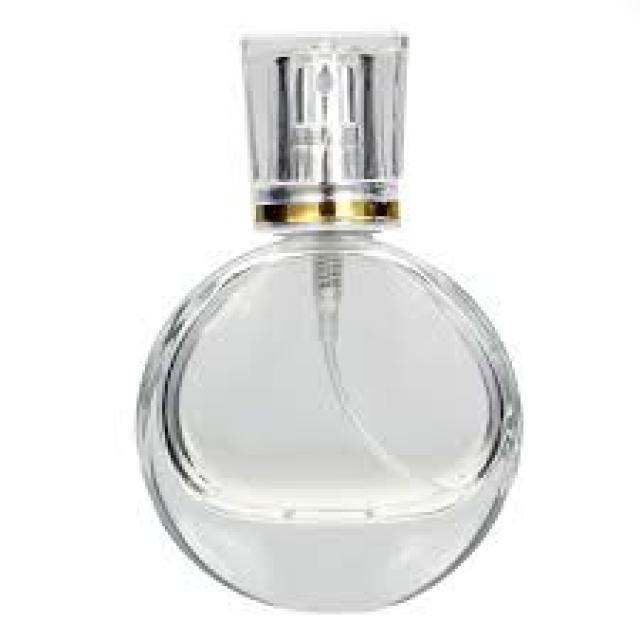Glass: (138, 33, 524, 612)
